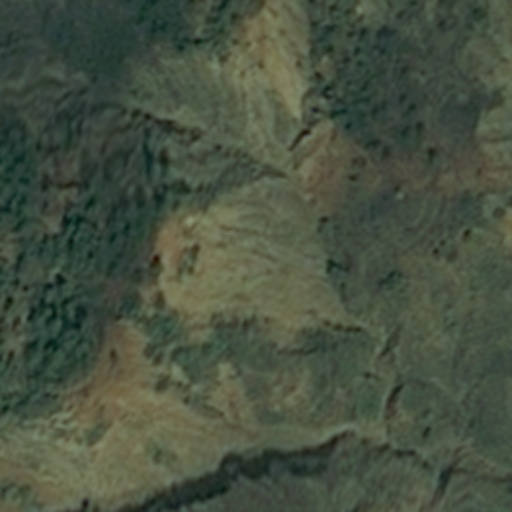landslide: (59, 182, 337, 448)
